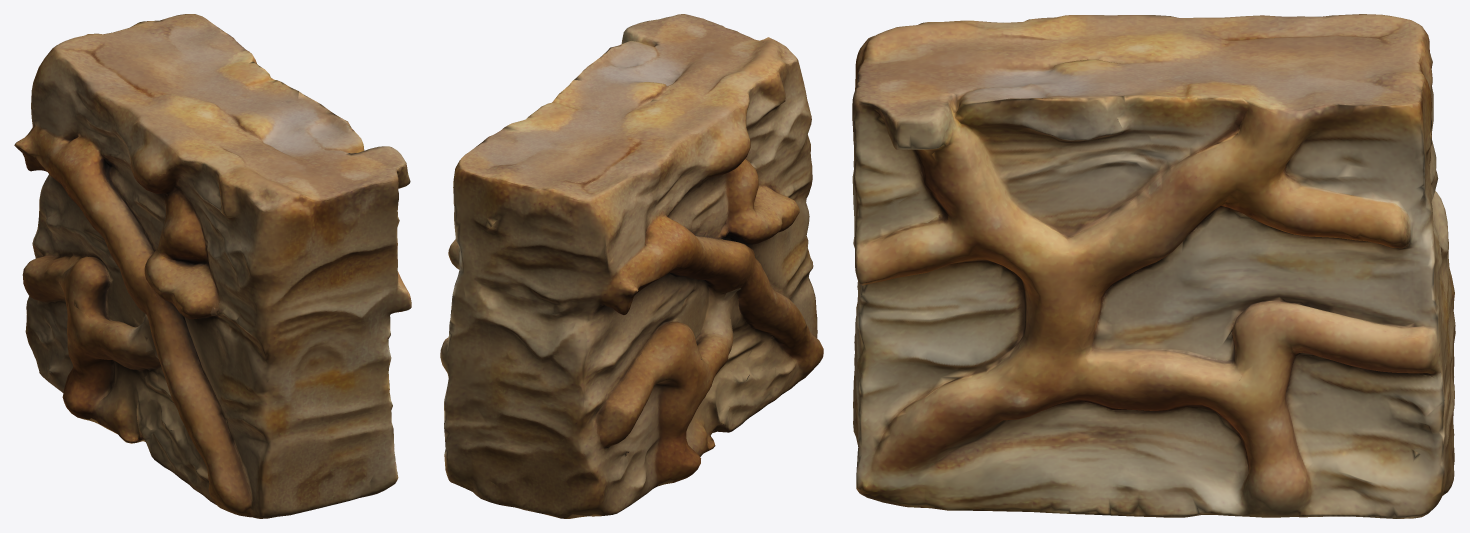
3 views of the same model, side by side, from view 1: azimuth 30°, elevation 25°; view 2: azimuth 150°, elevation 25°; view 3: azimuth 270°, elevation 25° (orthographic). The views are drawn at different scales.
Visible parts, largest first — view 1: world; view 2: world; view 3: world.
Part boxes in pixels (x1,y1,x2,y2): world: [14, 14, 411, 518]; world: [440, 14, 823, 518]; world: [852, 14, 1455, 518].
Bounding box in the file's own units: 0.1606 × 0.2452 × 0.32.
1 material, 1 textured.
